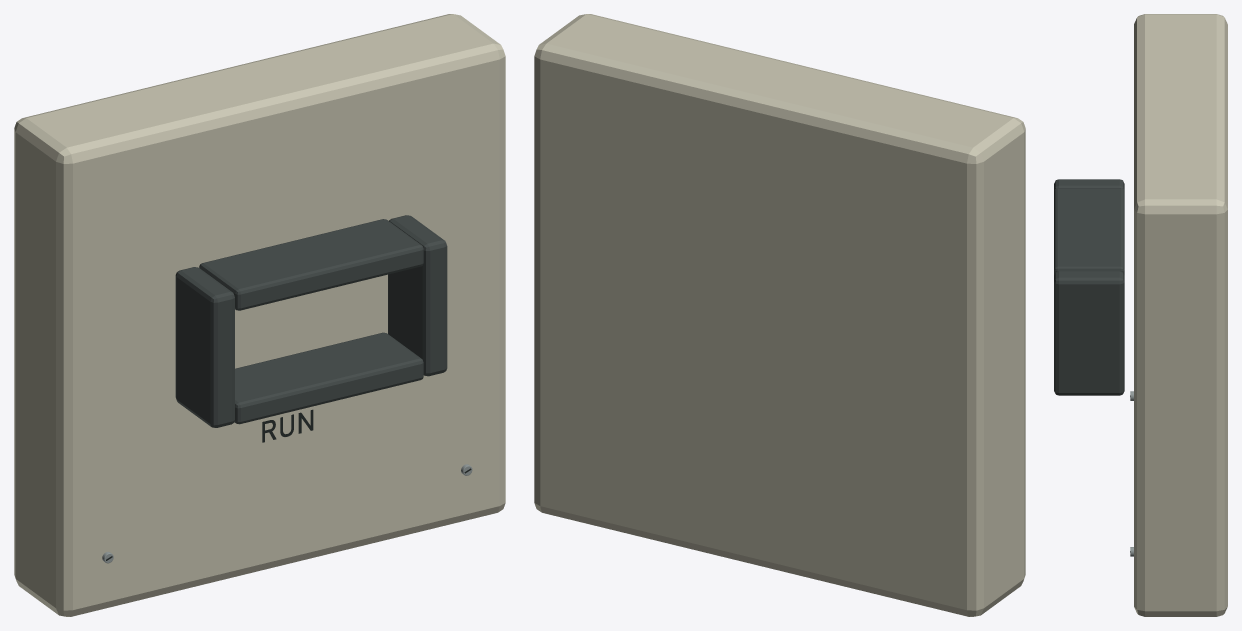
The model's file is STARTUP_Housing.fbx.
3 views of the same model, side by side, from view 1: azimuth 30°, elevation 25°; view 2: azimuth 150°, elevation 25°; view 3: azimuth 270°, elevation 25° (orthographic). The views are drawn at different scales.
Parts seen in each view (by area): view 1: STARTUP_Housing_EXPORT; view 2: STARTUP_Housing_EXPORT; view 3: STARTUP_Housing_EXPORT.
Boxes of the visible parts, box(x1,y1,x2,y2) form: STARTUP_Housing_EXPORT: box(14, 14, 505, 616); STARTUP_Housing_EXPORT: box(534, 14, 1025, 616); STARTUP_Housing_EXPORT: box(1054, 14, 1227, 616).
Size of the model in its own units: 0.372 by 0.372 by 0.1405.
